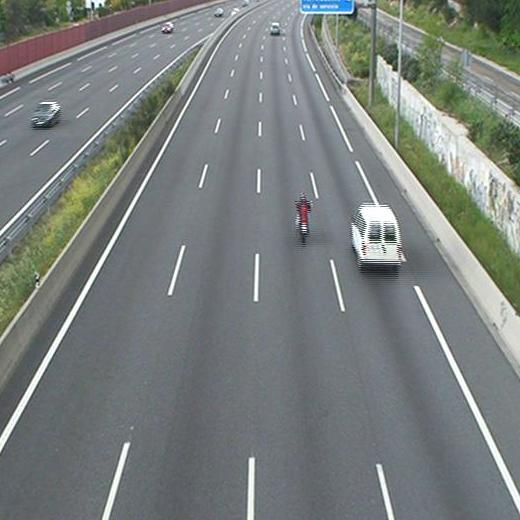car: (269, 22, 281, 37)
motorcycle: (295, 193, 312, 243)
van: (350, 202, 402, 275)
